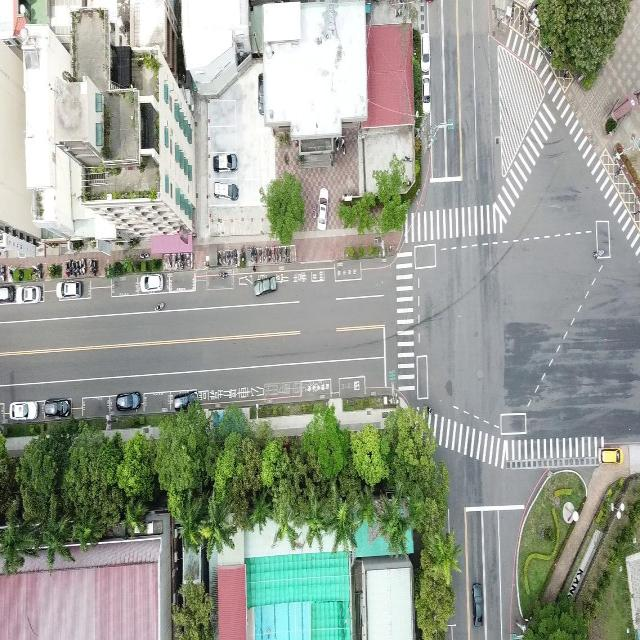bike: (334, 134, 341, 153), (592, 249, 604, 259), (156, 302, 167, 312), (615, 165, 622, 180), (519, 9, 524, 26), (139, 252, 151, 259), (626, 182, 632, 196), (218, 271, 228, 279), (222, 250, 227, 266), (226, 250, 231, 266), (341, 139, 346, 155), (218, 251, 223, 266), (93, 258, 97, 276), (0, 266, 5, 280), (38, 263, 42, 279), (66, 261, 70, 277), (76, 258, 80, 274), (82, 258, 86, 274), (90, 258, 94, 274), (254, 247, 258, 263), (526, 20, 530, 36), (511, 3, 515, 19), (181, 252, 184, 271), (169, 253, 172, 272), (563, 70, 568, 80), (69, 258, 72, 274), (234, 250, 237, 266), (259, 248, 262, 264), (73, 260, 76, 275), (175, 253, 178, 268), (80, 258, 82, 274), (287, 247, 289, 262)
car: (253, 273, 280, 300), (42, 395, 71, 419), (10, 399, 38, 422), (211, 180, 239, 203), (116, 388, 142, 412), (211, 151, 238, 174), (471, 580, 484, 627), (58, 278, 83, 300), (17, 283, 44, 303), (597, 446, 624, 466), (258, 72, 269, 118), (318, 186, 329, 231), (140, 271, 164, 291), (421, 31, 431, 74), (422, 74, 432, 114), (0, 284, 12, 302)
